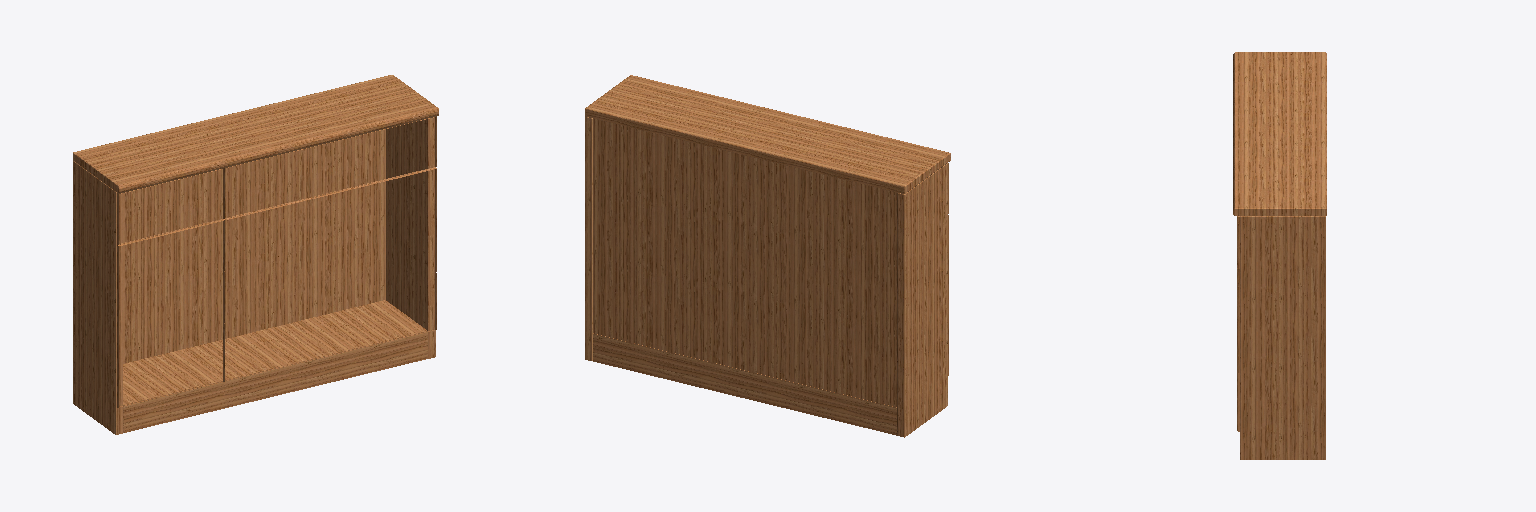
3 views of the same model, side by side, from view 1: azimuth 30°, elevation 25°; view 2: azimuth 150°, elevation 25°; view 3: azimuth 270°, elevation 25° (orthographic).
Parts seen in each view (by area): view 1: Part1; view 2: Part1; view 3: Part1.
Boxes of the visible parts, <box> form: Part1: <box>73,75,438,434</box>; Part1: <box>585,75,950,437</box>; Part1: <box>1233,52,1326,459</box>.
Bounding box in the file's own units: 1.2 × 0.9 × 0.3044.
1 materials, 1 textured.